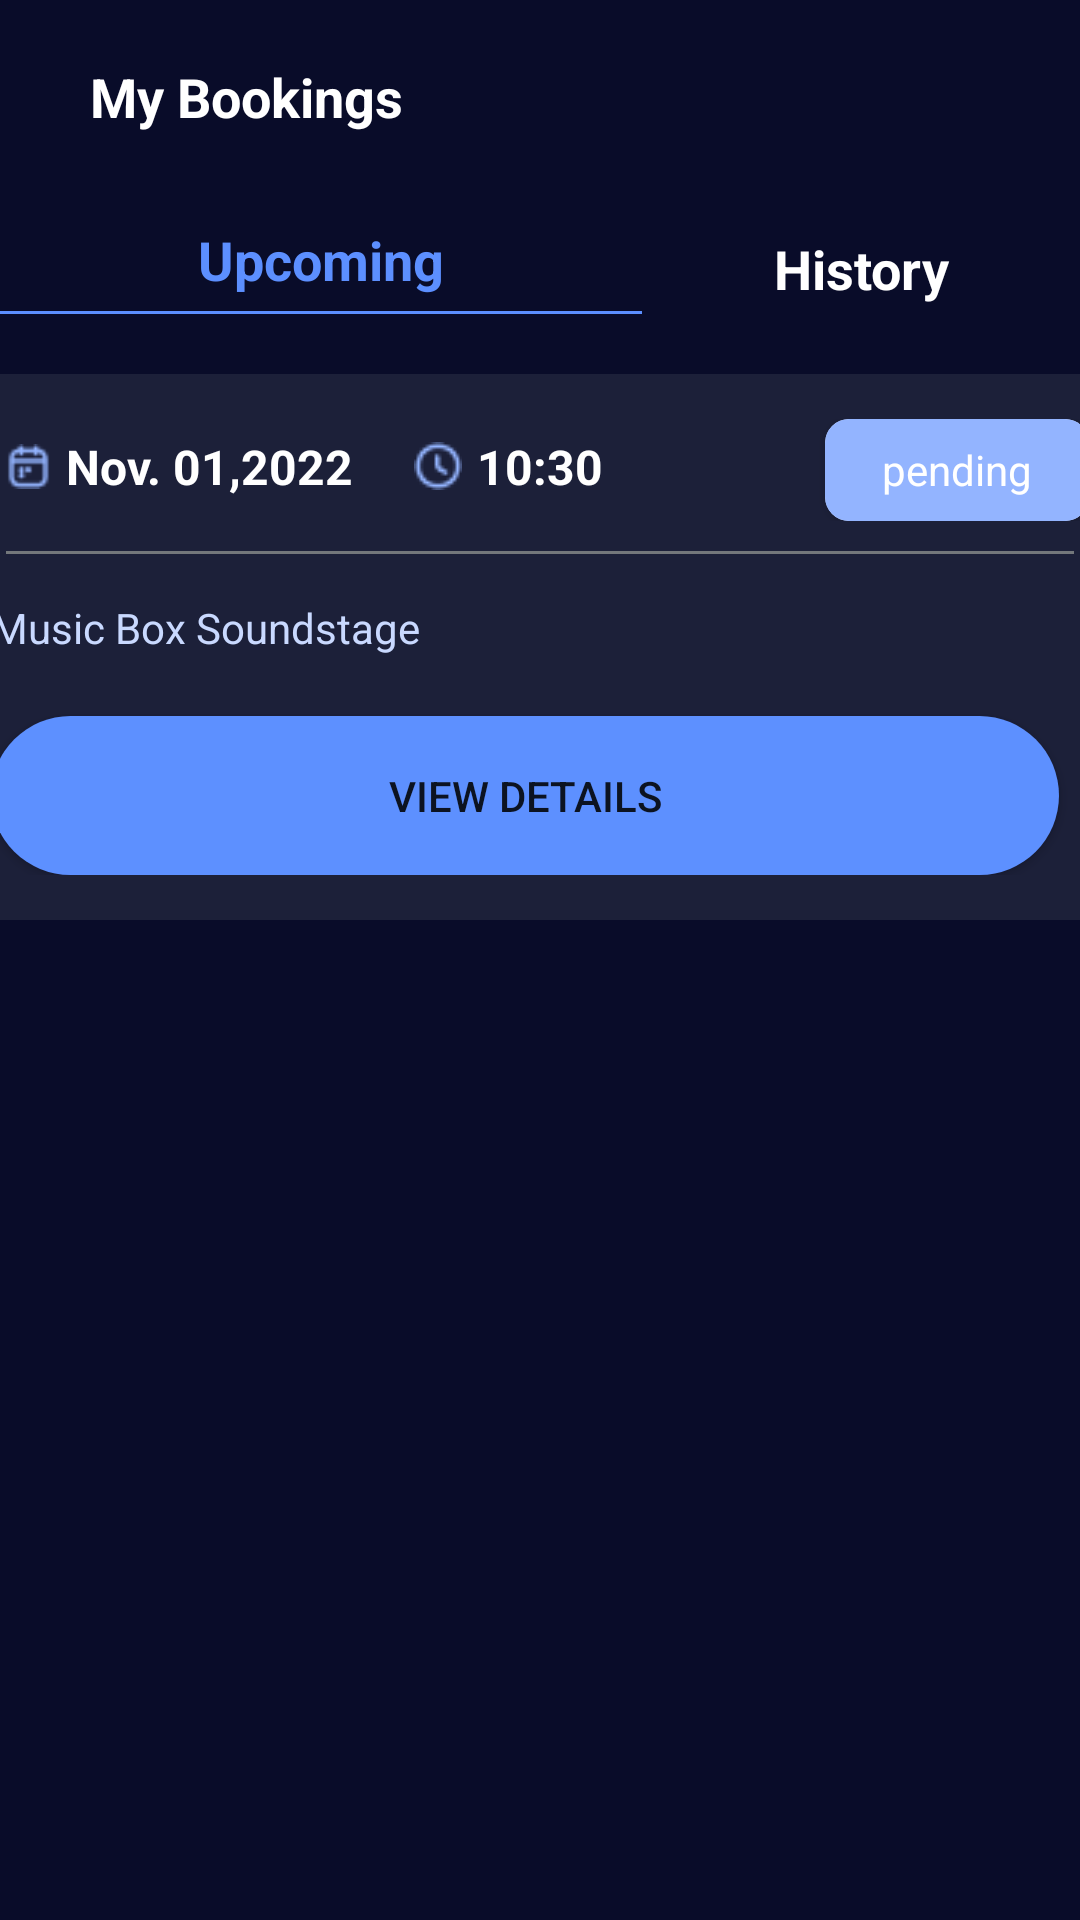

Point at icon controls on the screen. Image size 1080 x 1920, points as [x,y].
calendar: [28,466]
clock: [438,466]
